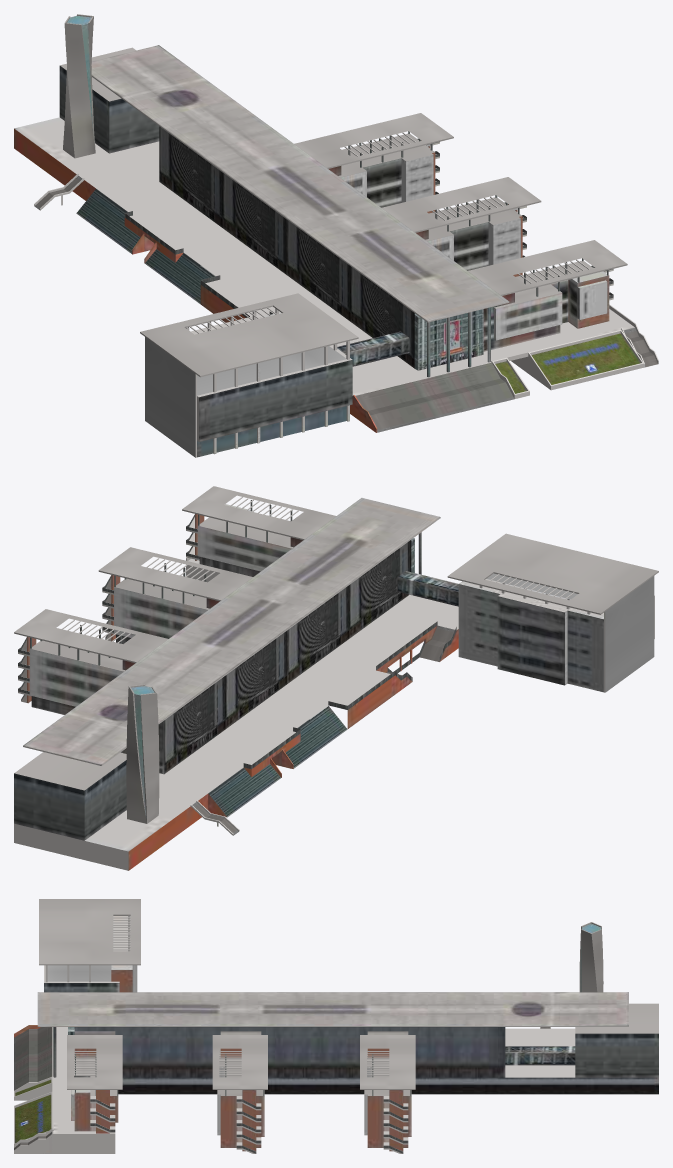
The picture shows the model from 3 angles, top to bottom: view 1: azimuth 30°, elevation 25°; view 2: azimuth 150°, elevation 25°; view 3: azimuth 270°, elevation 25°; orthographic projection. The views are drawn at different scales.
Visible parts, largest first — view 1: HN475___1___Hanoi___Amsterdam; view 2: HN475___1___Hanoi___Amsterdam; view 3: HN475___1___Hanoi___Amsterdam.
Part boxes in pixels (left/top/right/bottom): HN475___1___Hanoi___Amsterdam: left=14, top=14, right=658, bottom=457; HN475___1___Hanoi___Amsterdam: left=14, top=486, right=658, bottom=870; HN475___1___Hanoi___Amsterdam: left=14, top=899, right=658, bottom=1153.
Size of the model in its own units: 156 by 51.12 by 233.
Materials: 1 (1 with a texture image).
